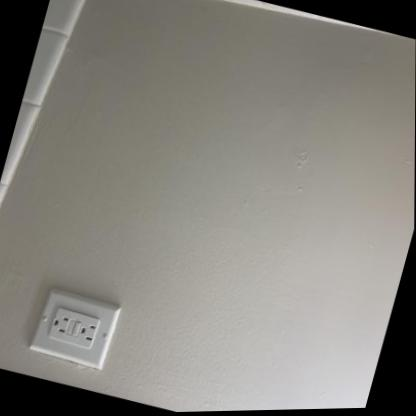OUTLET: (30, 285, 121, 372)
